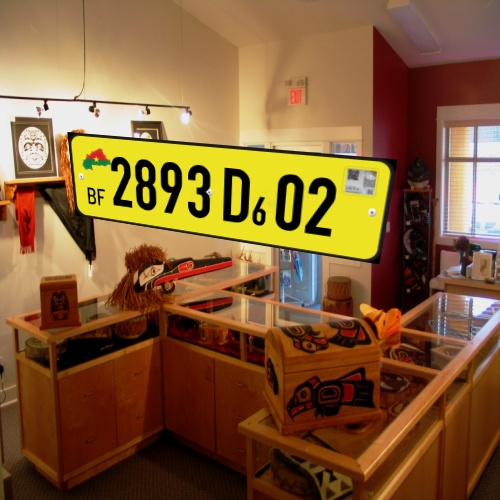plate: (59, 122, 407, 276)
